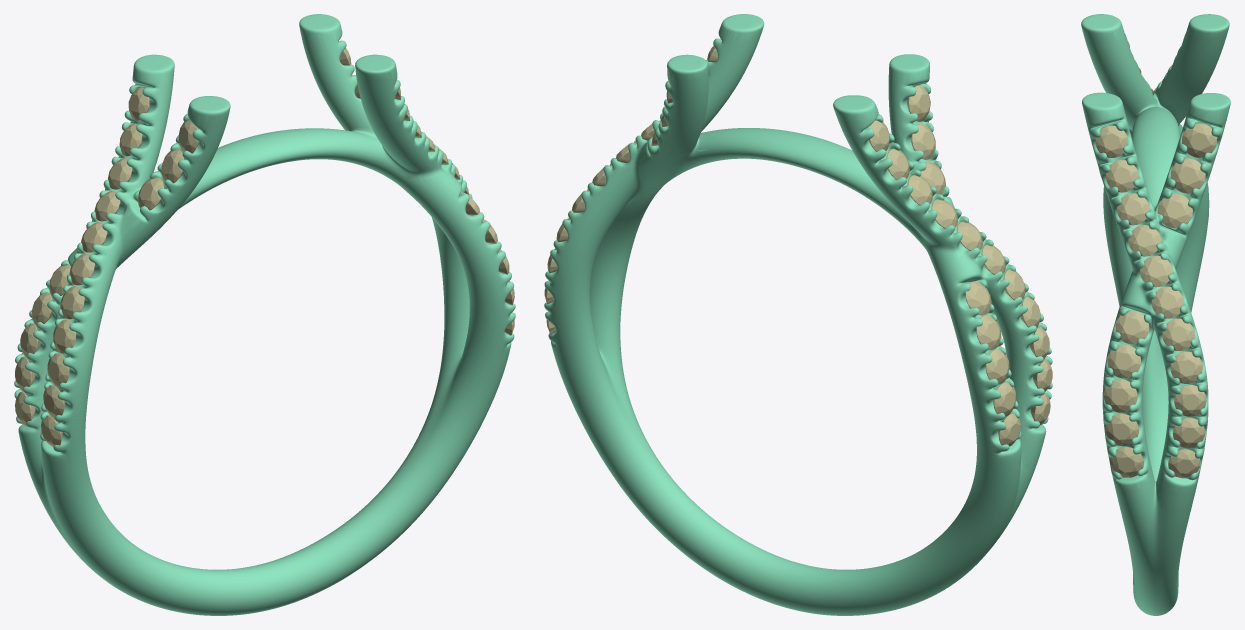
3 renders of one model, left to right at view 1: azimuth 30°, elevation 25°; view 2: azimuth 150°, elevation 25°; view 3: azimuth 270°, elevation 25°, orthographic. The views are drawn at different scales.
Visible parts, largest first — view 1: Metal02; view 2: Metal02; view 3: Metal02, Diamond_Gem.031, Diamond_Gem.032, Diamond_Gem.030, Diamond_Gem.034, Diamond_Gem.033, Diamond_Gem.035, Diamond_Gem.036, Diamond_Gem.026, Diamond_Gem.019, Diamond_Gem.025, Diamond_Gem.021 (+8 smaller).
Part boxes in pixels (box(x1,y1,x2,y2)): Metal02: box(14, 14, 515, 615); Metal02: box(544, 14, 1052, 615); Metal02: box(1081, 14, 1230, 615); Diamond_Gem.031: box(1170, 158, 1205, 193); Diamond_Gem.032: box(1157, 193, 1192, 228); Diamond_Gem.030: box(1182, 123, 1216, 157); Diamond_Gem.034: box(1107, 344, 1141, 378); Diamond_Gem.033: box(1115, 310, 1149, 344); Diamond_Gem.035: box(1104, 379, 1137, 412); Diamond_Gem.036: box(1105, 413, 1138, 446); Diamond_Gem.026: box(1170, 351, 1202, 383); Diamond_Gem.019: box(1095, 125, 1128, 157); Diamond_Gem.025: box(1162, 318, 1194, 350); Diamond_Gem.021: box(1117, 193, 1149, 225).
Size of the model in its own units: 21 by 23.35 by 5.97.
